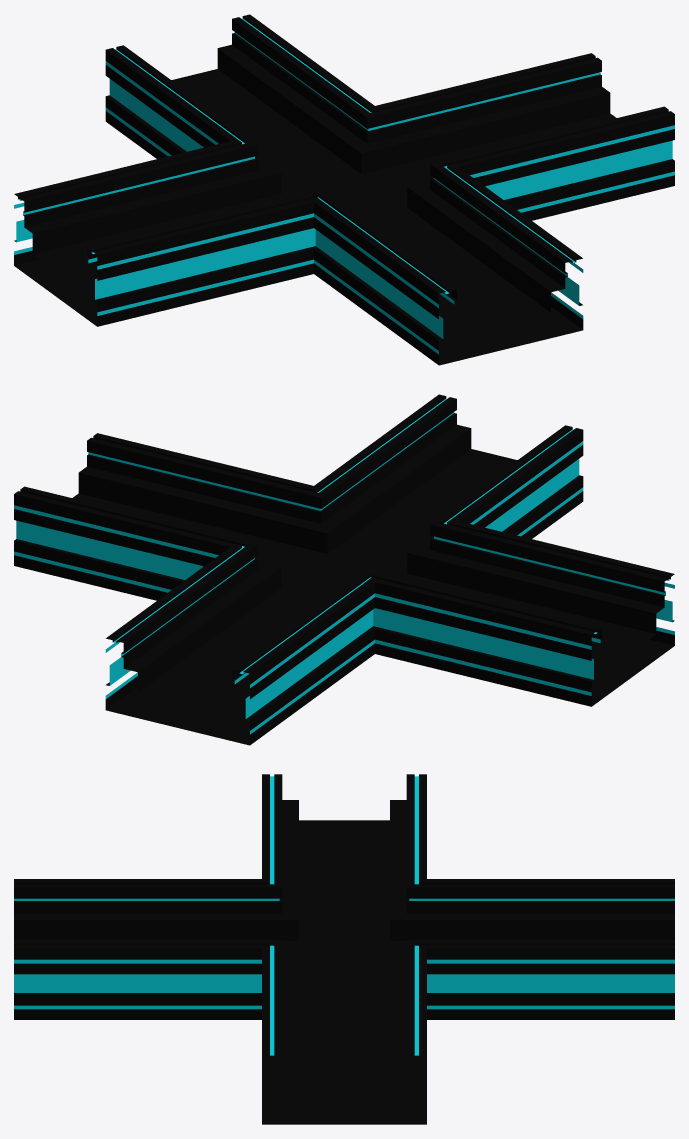
3 views of the same model, one above another, from view 1: azimuth 30°, elevation 25°; view 2: azimuth 150°, elevation 25°; view 3: azimuth 270°, elevation 25° (orthographic).
Parts seen in each view (by area): view 1: x; view 2: x; view 3: x.
Part boxes in pixels (bbox=[...]): x: bbox=[14, 14, 674, 365]; x: bbox=[14, 394, 674, 745]; x: bbox=[14, 774, 674, 1124].
Bounding box in the file's own units: 20 × 2.38 × 20.
